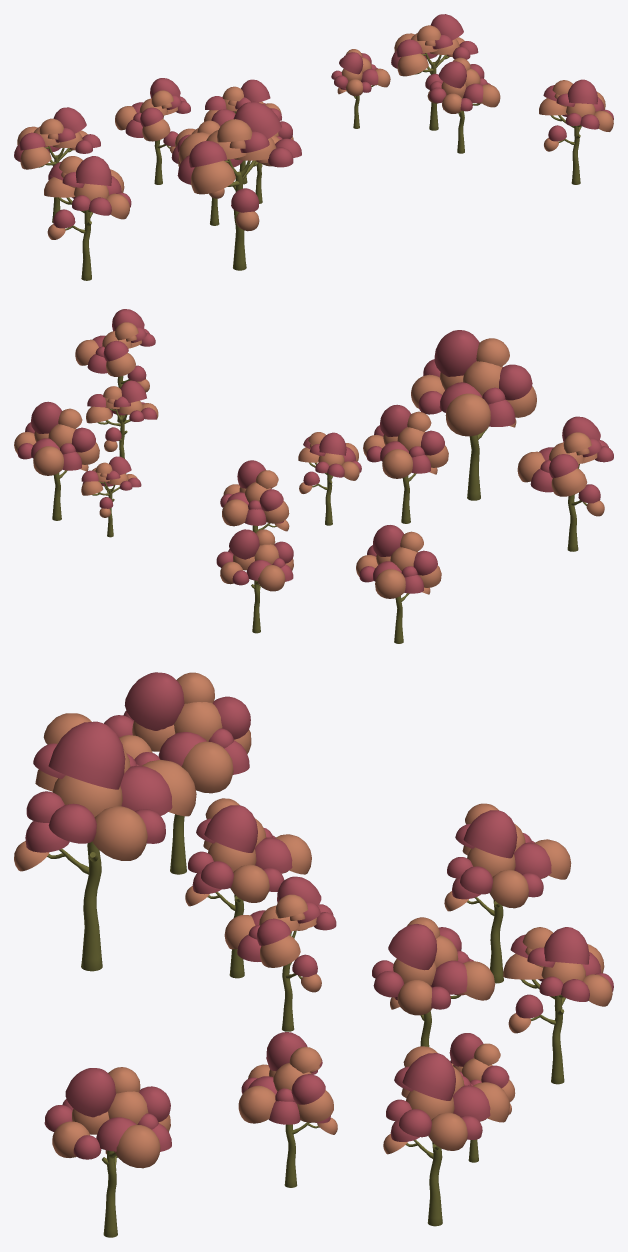
The model's file is tree_3.fbx.
3 views of the same model, one above another, from view 1: azimuth 30°, elevation 25°; view 2: azimuth 150°, elevation 25°; view 3: azimuth 270°, elevation 25° (orthographic). The views are drawn at different scales.
Visible parts, largest first — view 1: tree_3_11, tree_3_05, tree_3_08, tree_3_06, tree_3_09, tree_3_02, tree_3_07, tree_3_01, tree_3_04, tree_3_10, tree_3_03; view 2: tree_3_11, tree_3_05, tree_3_08, tree_3_10, tree_3_09, tree_3_02, tree_3_06, tree_3_04, tree_3_03, tree_3_07, tree_3_01; view 3: tree_3_11, tree_3_05, tree_3_06, tree_3_08, tree_3_09, tree_3_10, tree_3_04, tree_3_02, tree_3_07, tree_3_03, tree_3_01.
Part boxes in pixels (bbox=[...]): tree_3_11: bbox=[177, 101, 301, 270]; tree_3_05: bbox=[44, 156, 131, 280]; tree_3_08: bbox=[391, 14, 478, 130]; tree_3_06: bbox=[539, 79, 613, 184]; tree_3_09: bbox=[14, 107, 100, 223]; tree_3_02: bbox=[115, 78, 190, 184]; tree_3_07: bbox=[429, 57, 500, 153]; tree_3_01: bbox=[331, 49, 390, 128]; tree_3_04: bbox=[204, 79, 281, 184]; tree_3_10: bbox=[171, 109, 235, 225]; tree_3_03: bbox=[255, 121, 293, 203]; tree_3_11: bbox=[411, 330, 536, 500]; tree_3_05: bbox=[517, 416, 613, 551]; tree_3_08: bbox=[14, 401, 99, 520]; tree_3_10: bbox=[363, 404, 448, 523]; tree_3_09: bbox=[356, 525, 441, 643]; tree_3_02: bbox=[216, 529, 293, 633]; tree_3_06: bbox=[75, 309, 155, 422]; tree_3_04: bbox=[220, 460, 289, 532]; tree_3_03: bbox=[298, 432, 361, 525]; tree_3_07: bbox=[86, 380, 158, 473]; tree_3_01: bbox=[81, 456, 141, 537]; tree_3_11: bbox=[14, 713, 196, 971]; tree_3_05: bbox=[104, 672, 251, 874]; tree_3_06: bbox=[44, 1067, 171, 1237]; tree_3_08: bbox=[383, 1046, 509, 1226]; tree_3_09: bbox=[444, 803, 571, 983]; tree_3_10: bbox=[185, 798, 311, 978]; tree_3_04: bbox=[372, 917, 495, 1046]; tree_3_02: bbox=[503, 927, 613, 1084]; tree_3_07: bbox=[238, 1032, 337, 1187]; tree_3_03: bbox=[224, 876, 336, 1031]; tree_3_01: bbox=[449, 1033, 515, 1162].
Bounding box in the file's own units: 98.44 × 35.14 × 60.48.
